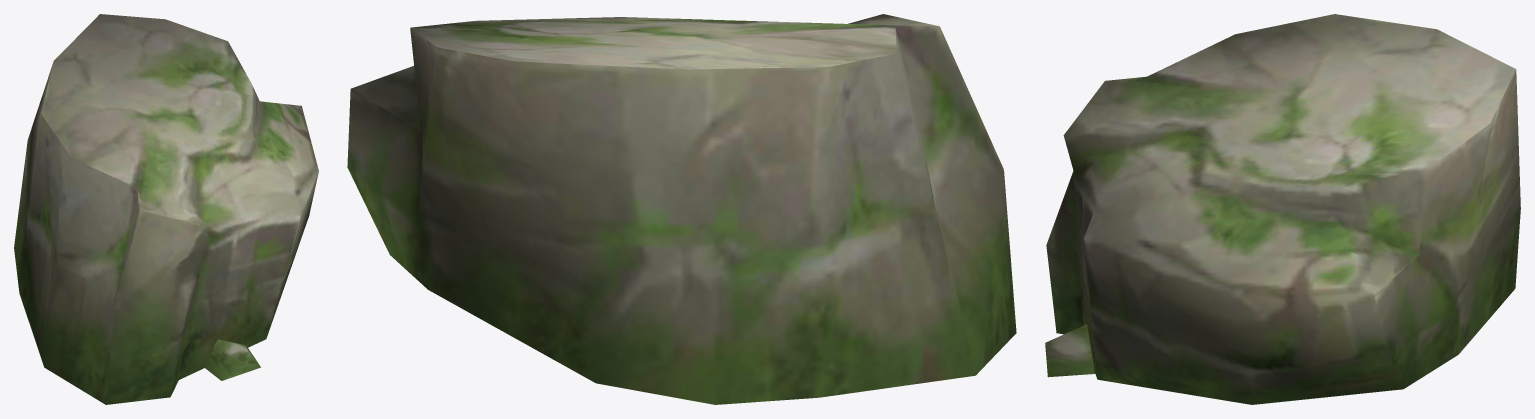
File: shitou_20.FBX
3 views of the same model, side by side, from view 1: azimuth 30°, elevation 25°; view 2: azimuth 150°, elevation 25°; view 3: azimuth 270°, elevation 25° (orthographic). The views are drawn at different scales.
Parts seen in each view (by area): view 1: shitou_20; view 2: shitou_20; view 3: shitou_20.
Boxes of the visible parts, <box> form: shitou_20: <box>14,14,318,404</box>; shitou_20: <box>347,14,1016,404</box>; shitou_20: <box>1045,14,1520,404</box>.
Size of the model in its own units: 165 by 120 by 155.
